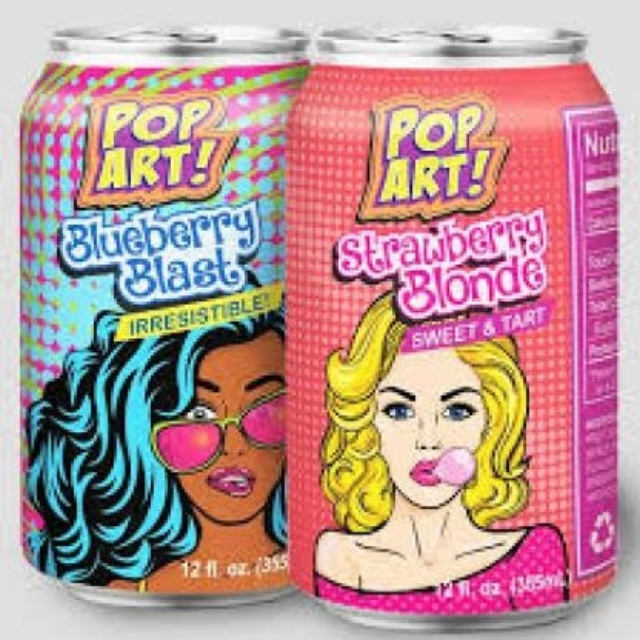trash: (286, 31, 617, 614), (22, 29, 306, 603)
